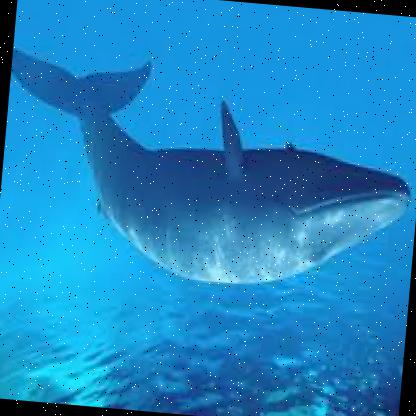blue_whale: (0, 10, 415, 292)
